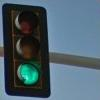traffic lights: (2, 2, 52, 97)
